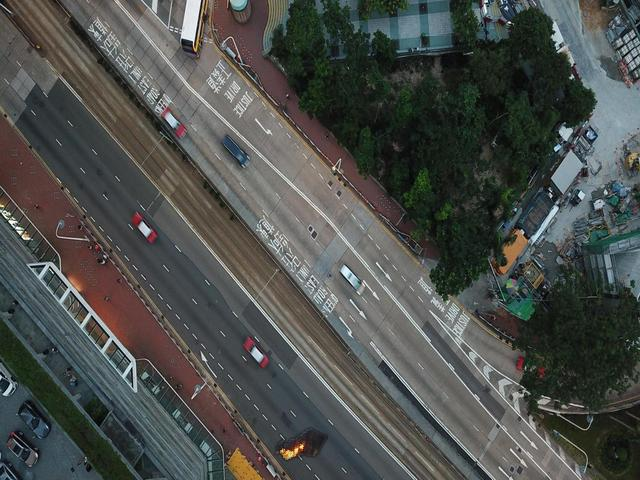fire: (274, 427, 326, 461)
